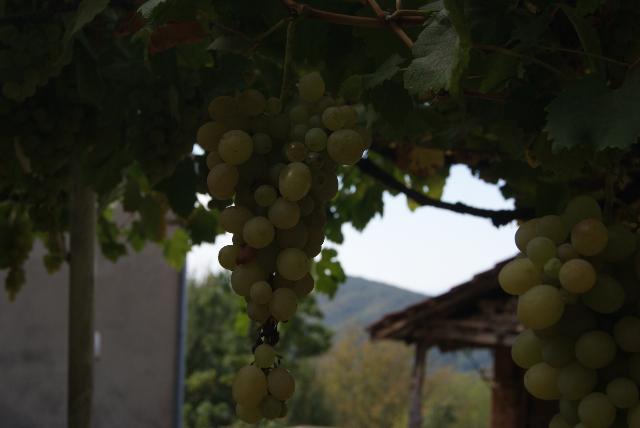grapes: (196, 72, 372, 424), (499, 195, 640, 428)
